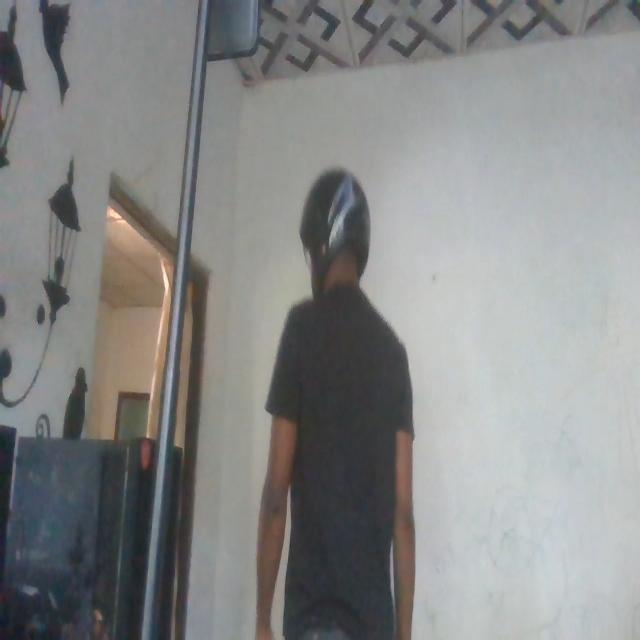Helmet_Wearer: (288, 160, 372, 300)
Person: (258, 168, 426, 640)
